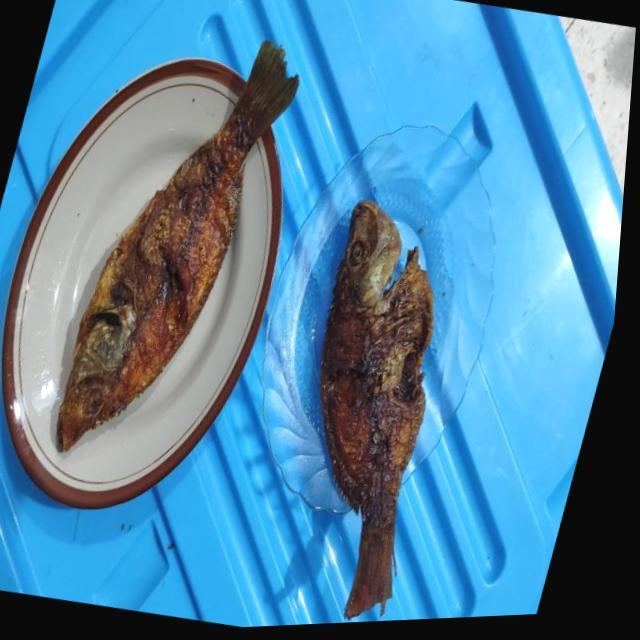ikan_mujair: (57, 41, 299, 450), (320, 200, 434, 619)
